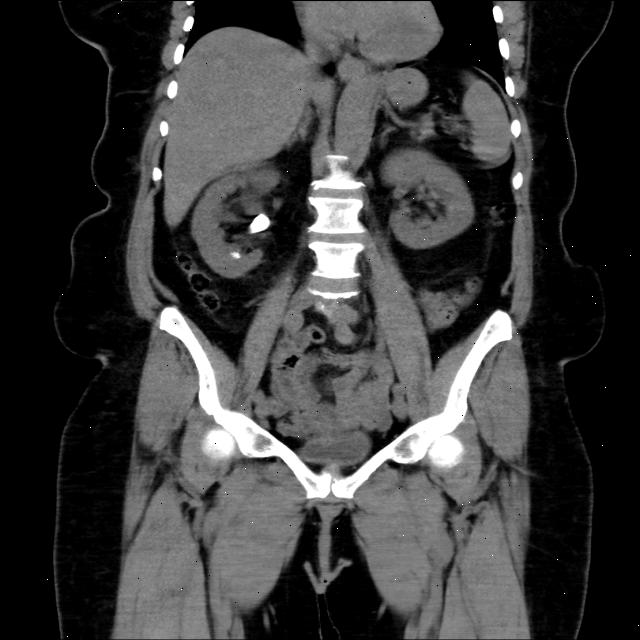kidneystone: (249, 214, 270, 234), (230, 252, 241, 258)
